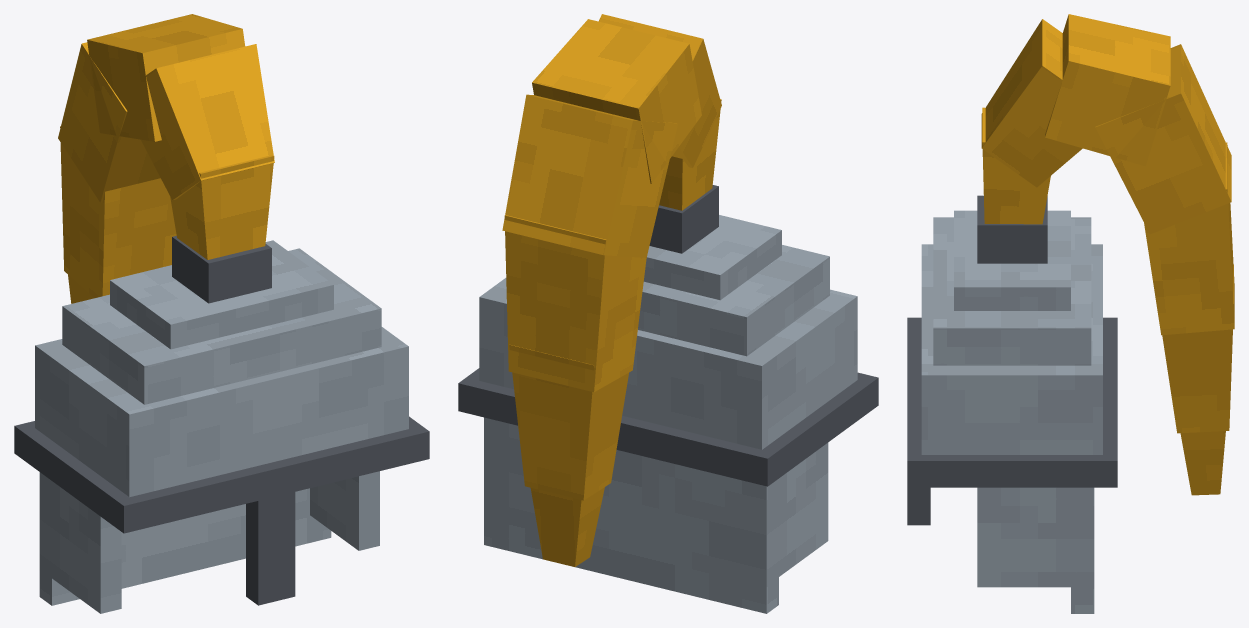
File: acc_helmet_rider.glb
3 views of the same model, side by side, from view 1: azimuth 30°, elevation 25°; view 2: azimuth 150°, elevation 25°; view 3: azimuth 270°, elevation 25° (orthographic). The views are drawn at different scales.
Parts seen in each view (by area): view 1: acc_helmet_rider, sway_plume; view 2: acc_helmet_rider, sway_plume; view 3: acc_helmet_rider, sway_plume.
Boxes of the visible parts, left/top/right/bottom form: acc_helmet_rider: left=14, top=236, right=429, bottom=613; sway_plume: left=58, top=14, right=274, bottom=303; acc_helmet_rider: left=458, top=185, right=878, bottom=613; sway_plume: left=502, top=14, right=721, bottom=566; acc_helmet_rider: left=907, top=195, right=1117, bottom=613; sway_plume: left=981, top=14, right=1234, bottom=495.
Bounding box in the file's own units: 0.58 × 0.964 × 0.5602.
3 materials, 2 textured.
